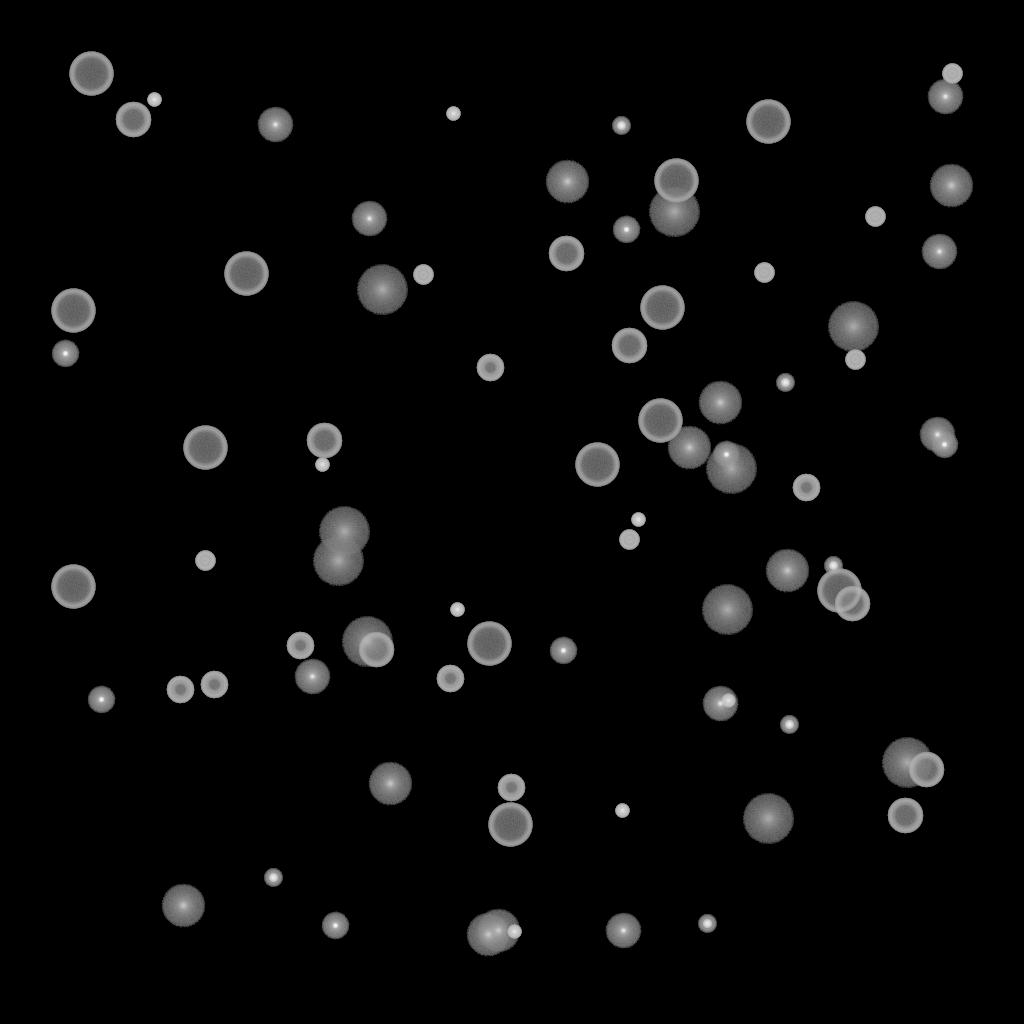depth:-10: (612, 216, 640, 244), (51, 340, 79, 368), (549, 637, 577, 665), (712, 441, 740, 469), (87, 686, 115, 714), (321, 912, 349, 940), (930, 431, 958, 459)
depth:-20: (776, 374, 794, 392), (612, 117, 630, 135), (698, 915, 716, 933), (824, 557, 842, 575), (780, 716, 798, 734), (264, 869, 282, 887)
depth:-30: (615, 804, 629, 818), (446, 107, 460, 121), (631, 513, 645, 527), (147, 93, 161, 107), (315, 458, 329, 472), (450, 603, 464, 617), (507, 925, 521, 939), (721, 694, 735, 708)
depth:-40: (845, 350, 865, 370), (619, 530, 639, 550), (413, 265, 433, 285), (865, 207, 885, 227), (195, 551, 215, 571), (754, 263, 774, 283), (942, 64, 962, 84)
depth:-50: (497, 774, 525, 802), (476, 354, 504, 382), (200, 671, 228, 699), (792, 474, 820, 502), (436, 665, 464, 693), (166, 676, 194, 704), (286, 632, 314, 660)
depth:-60: (115, 102, 151, 138), (908, 752, 944, 788), (834, 586, 870, 622), (611, 328, 647, 364), (358, 632, 394, 668), (306, 423, 342, 459), (548, 236, 584, 272), (887, 798, 923, 834)
depth:-70: (746, 100, 790, 144), (575, 443, 619, 487), (817, 569, 861, 613), (638, 399, 682, 443), (640, 286, 684, 330), (467, 622, 511, 666), (51, 289, 95, 333), (488, 803, 532, 847), (51, 565, 95, 609), (183, 426, 227, 470), (654, 159, 698, 203), (69, 52, 113, 96), (224, 252, 268, 296)
depth:0: (351, 201, 387, 237), (921, 234, 957, 270), (702, 686, 738, 722), (927, 79, 963, 115), (294, 659, 330, 695), (605, 913, 641, 949), (919, 417, 955, 453), (257, 107, 293, 143)
depth:10: (765, 549, 809, 593), (929, 164, 973, 208), (466, 913, 510, 957), (476, 909, 520, 953), (161, 884, 205, 928), (545, 160, 589, 204), (368, 762, 412, 806), (667, 426, 711, 470), (698, 381, 742, 425)
depth:20: (705, 444, 757, 494), (312, 536, 364, 586), (827, 302, 879, 352), (881, 738, 933, 788), (341, 617, 393, 667), (648, 187, 700, 237), (701, 585, 753, 635), (742, 794, 794, 844), (356, 265, 408, 315), (318, 507, 370, 557)
